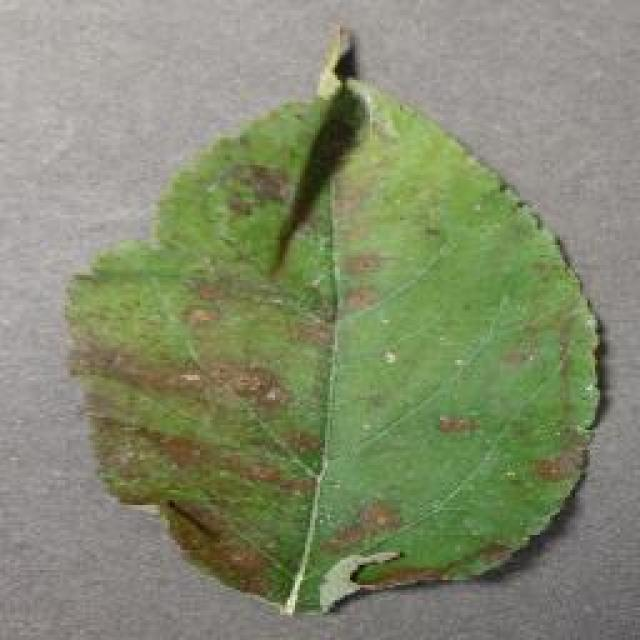apple scab disease: (60, 22, 605, 618)
